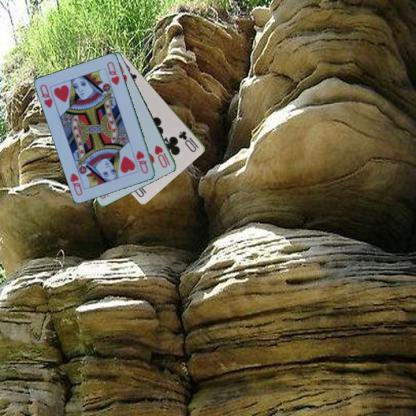10c: (176, 128, 201, 154)
10h: (152, 143, 172, 169)
Qh: (38, 82, 54, 109), (134, 148, 150, 174)
